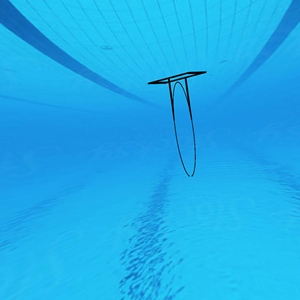circle: (147, 69, 208, 181)
